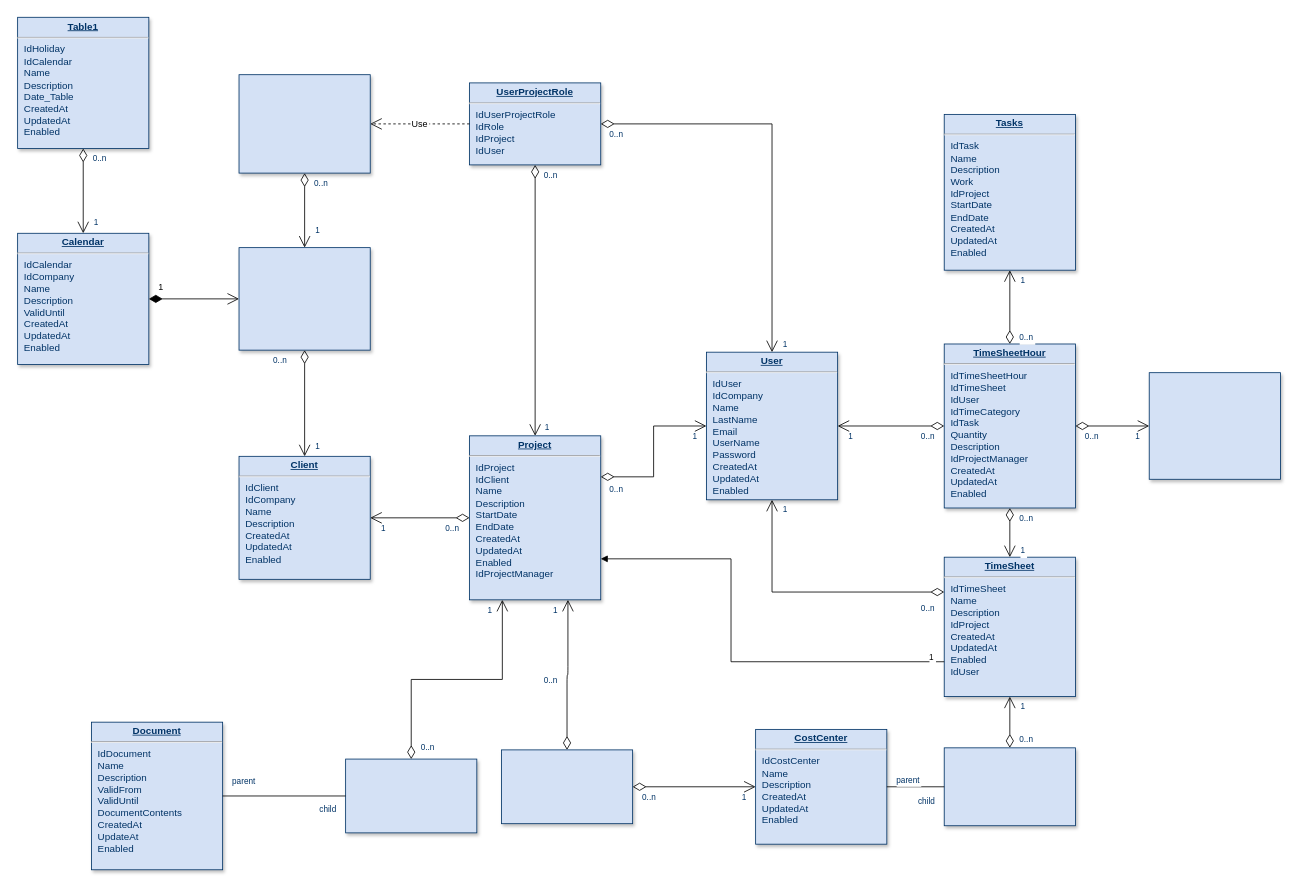
Image size: 1300x891. Some labels were removed from this diagram. The centre of each missing label's shape, as x and y in pixels:
"Company Name Description CreatedAt UpdatedAt Enabled" belongs at point (305, 300).
"ProjectCostCenter IdProjectCostCenter IdProject IdCostCenter" belongs at point (567, 787).
"ProjectDocument IdProjectDocument IdProject IdDocument" belongs at point (412, 797).
"Role IdCompany Name Description CreatedAt UpdatedAt Enabled" belongs at point (305, 125).
"TimeCategory IdTimeCategory Name Description CreatedAt UpdatedAt Enabled" belongs at point (1215, 427).
"TimeSheetCostCenter IdTimeSheetCostCenter IdTimeSheet IdCostCenter" belongs at point (1010, 787).
